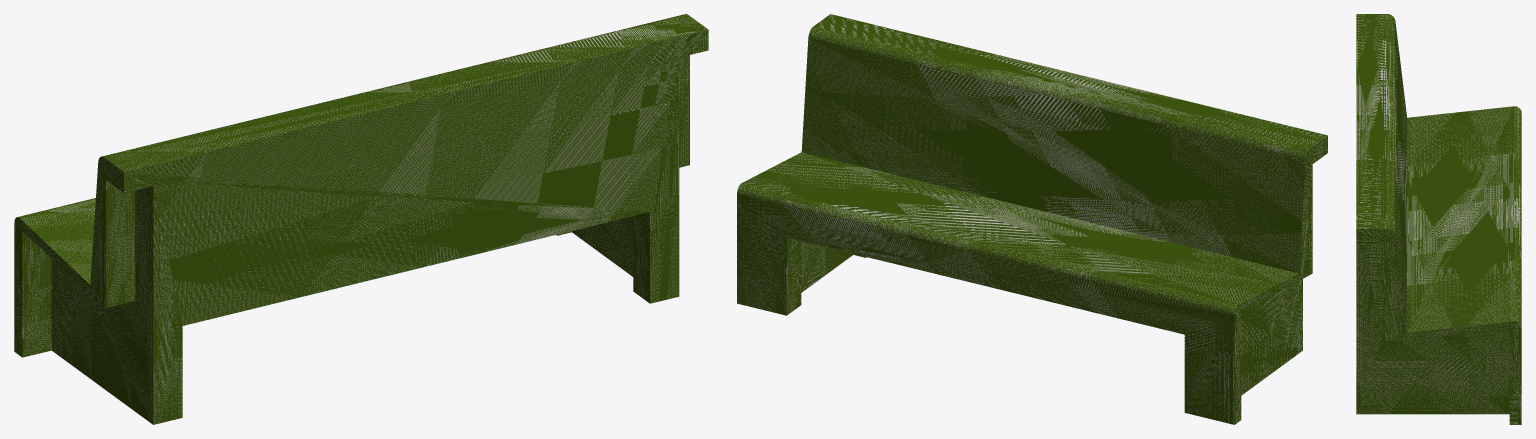
3 views of the same model, side by side, from view 1: azimuth 30°, elevation 25°; view 2: azimuth 150°, elevation 25°; view 3: azimuth 270°, elevation 25° (orthographic). The views are drawn at different scales.
Parts seen in each view (by area): view 1: mesh1_mesh1-geometry; view 2: mesh1_mesh1-geometry; view 3: mesh1_mesh1-geometry.
Part boxes in pixels (box(x1,y1,x2,y2)): mesh1_mesh1-geometry: box(14, 14, 708, 424); mesh1_mesh1-geometry: box(737, 14, 1327, 424); mesh1_mesh1-geometry: box(1356, 14, 1521, 424).
Size of the model in its own units: 0.4574 by 0.1944 by 0.1486.
